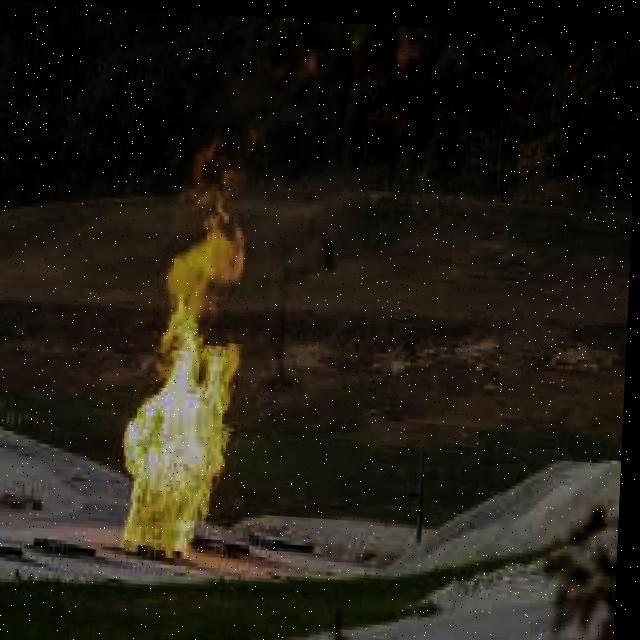Fire: (118, 148, 258, 559)
